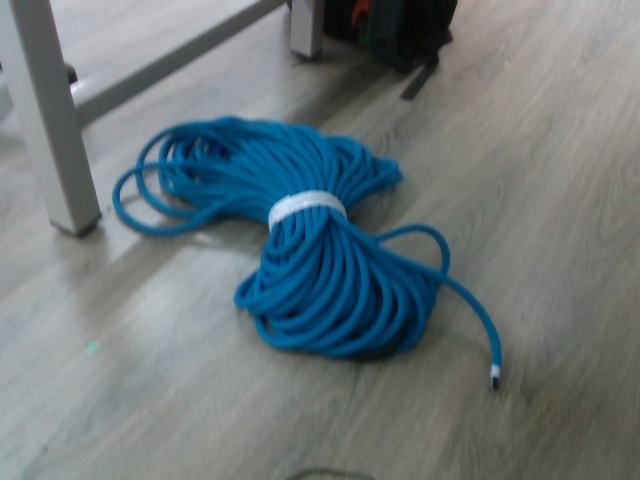rope: (112, 113, 506, 393)
